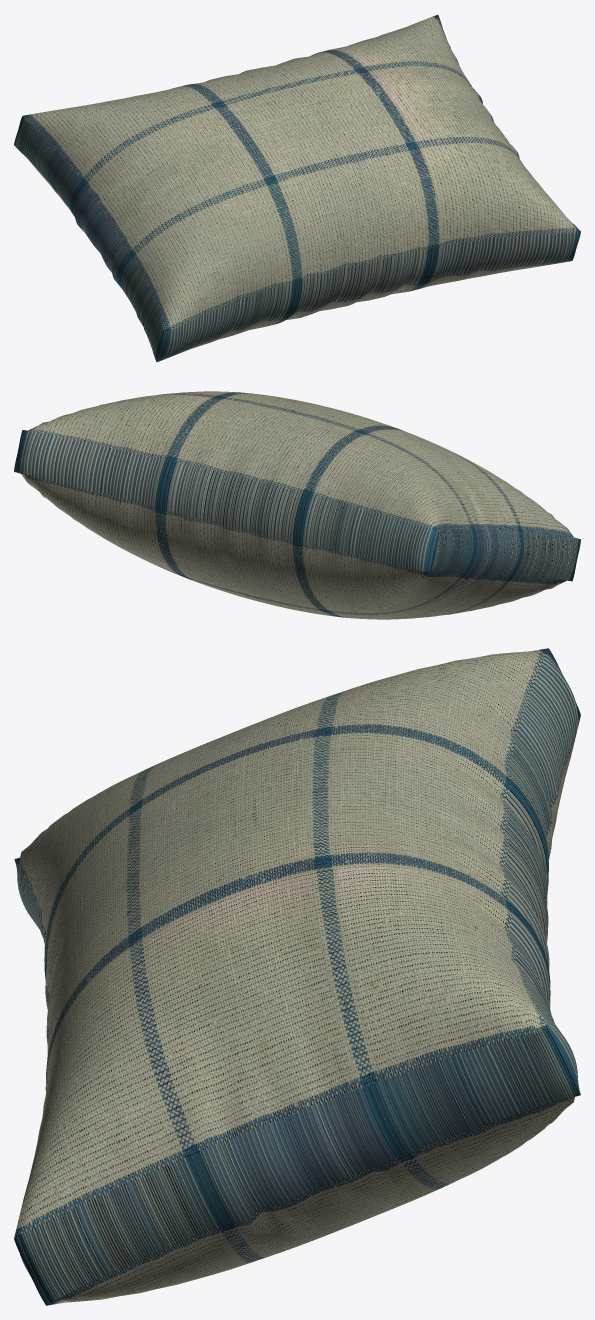
The model's file is pillowbig.glb.
The picture shows the model from 3 angles, top to bottom: view 1: azimuth 30°, elevation 25°; view 2: azimuth 150°, elevation 25°; view 3: azimuth 270°, elevation 25°; orthographic projection. The views are drawn at different scales.
Parts seen in each view (by area): view 1: Plane.007; view 2: Plane.007; view 3: Plane.007.
Boxes of the visible parts, bbox=[...] form: Plane.007: bbox=[14, 14, 580, 362]; Plane.007: bbox=[14, 391, 580, 619]; Plane.007: bbox=[14, 648, 580, 1305].
Bounding box in the file's own units: 4.41 × 2 × 2.76.
Materials: 1 (1 with a texture image).
